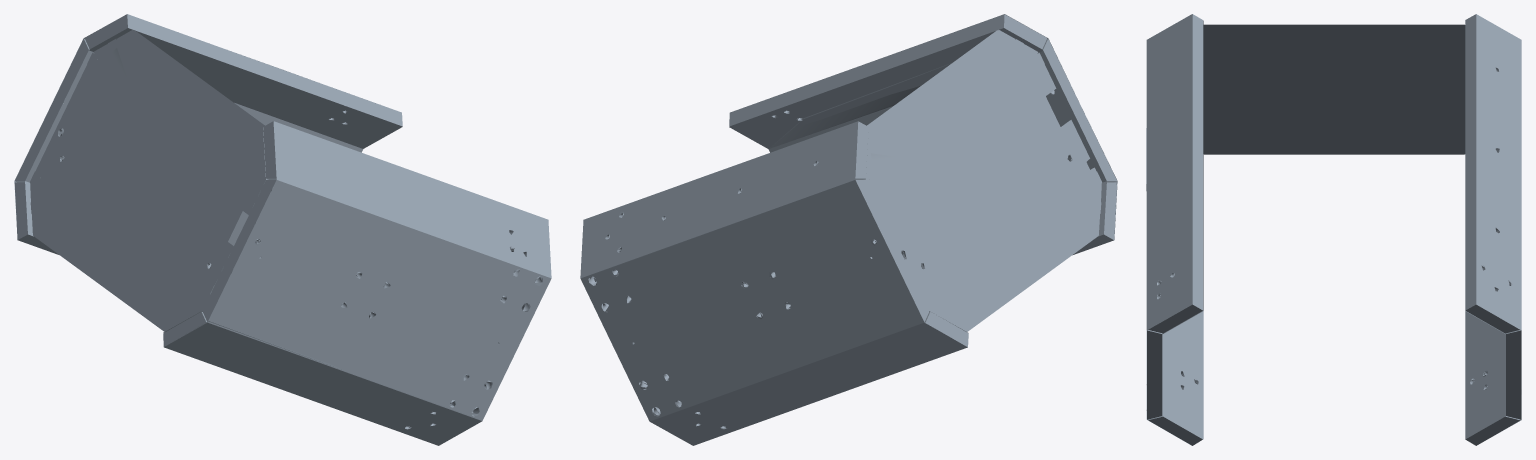
The picture shows the model from 3 angles, left to right: view 1: azimuth 30°, elevation 25°; view 2: azimuth 150°, elevation 25°; view 3: azimuth 270°, elevation 25°; orthographic projection. The views are drawn at different scales.
Visible parts, largest first — view 1: node; view 2: node; view 3: node.
Boxes of the visible parts, x1,y1,x2,y2 form: node: (14,14,551,445); node: (580,14,1117,445); node: (1146,14,1521,445).
Bounding box in the file's own units: 0.9099 × 0.7934 × 0.8254.
